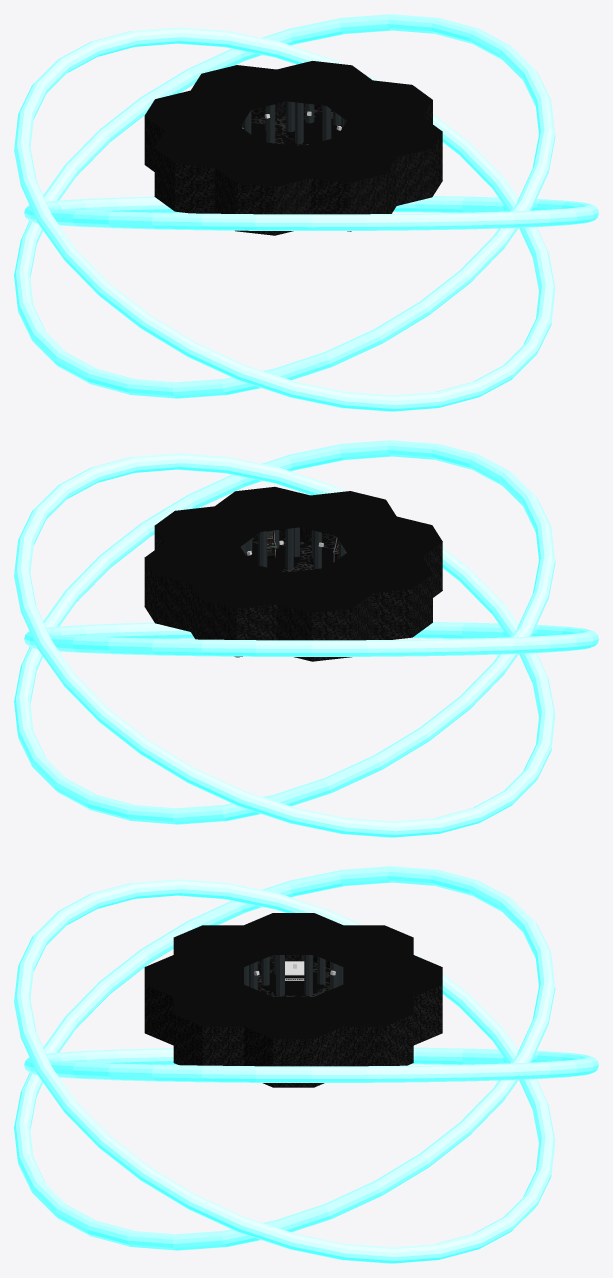
File: TheLabHub_V2-transformed.glb
3 renders of one model, top to bottom at view 1: azimuth 30°, elevation 25°; view 2: azimuth 150°, elevation 25°; view 3: azimuth 270°, elevation 25°, orthographic.
Visible parts, largest first — view 1: Orbit, Roof, Walls, Pillars, Floor_Pad, Floor; view 2: Orbit, Roof, Walls, Pillars, Floor_Pad, Floor; view 3: Orbit, Roof, Walls, Pillars, Floor_Pad, Floor.
Boxes of the visible parts, x1,y1,x2,y2 form: Orbit: (14,14,598,411); Roof: (144,61,442,186); Walls: (144,100,442,235); Pillars: (241,101,346,144); Floor_Pad: (240,117,341,144); Floor: (251,110,350,231); Orbit: (14,440,598,837); Roof: (144,486,442,612); Walls: (144,527,442,661); Pillars: (240,527,346,569); Floor_Pad: (246,544,334,570); Floor: (252,536,442,590); Orbit: (14,866,598,1263); Roof: (144,913,442,1038); Walls: (144,955,442,1087); Pillars: (244,955,343,996); Floor_Pad: (262,971,323,995); Floor: (258,961,329,996).
Size of what is drawn, in the model's own units: 33.02 by 13.09 by 32.63.
16 materials, 10 textured.
